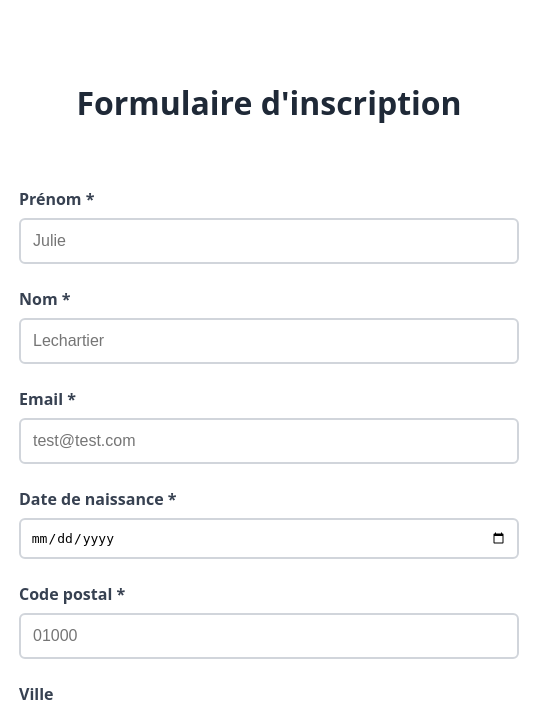
Test case: Register - Tests INTÉGRATION user-event (YNOV) › erreur code postal 4 chiffres - message visible + bouton gris
This screenshot has width=539, height=713.
Type "6900" into the field with test id "postalCode-input" at (269, 636), box [19, 613, 519, 659]
(page scrolled)
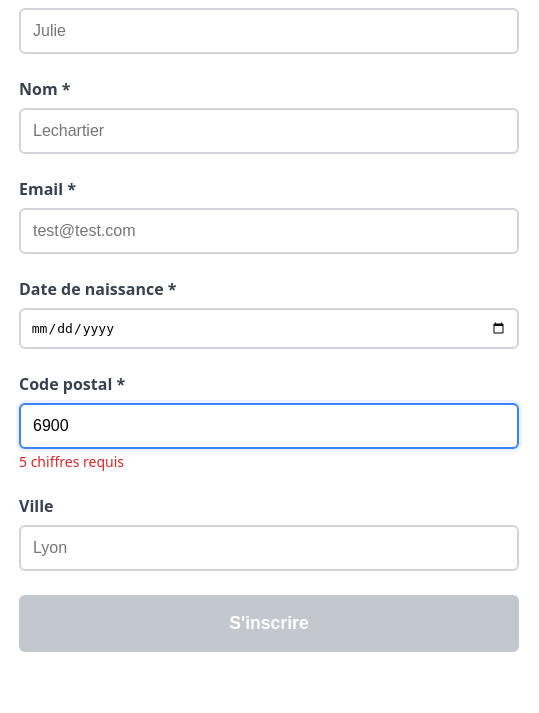
expect the button with test id "submit-button" is disabled: met, box [19, 595, 519, 652]
expect the text "5 chiffres requis" is shown: met, box [19, 452, 124, 471]
